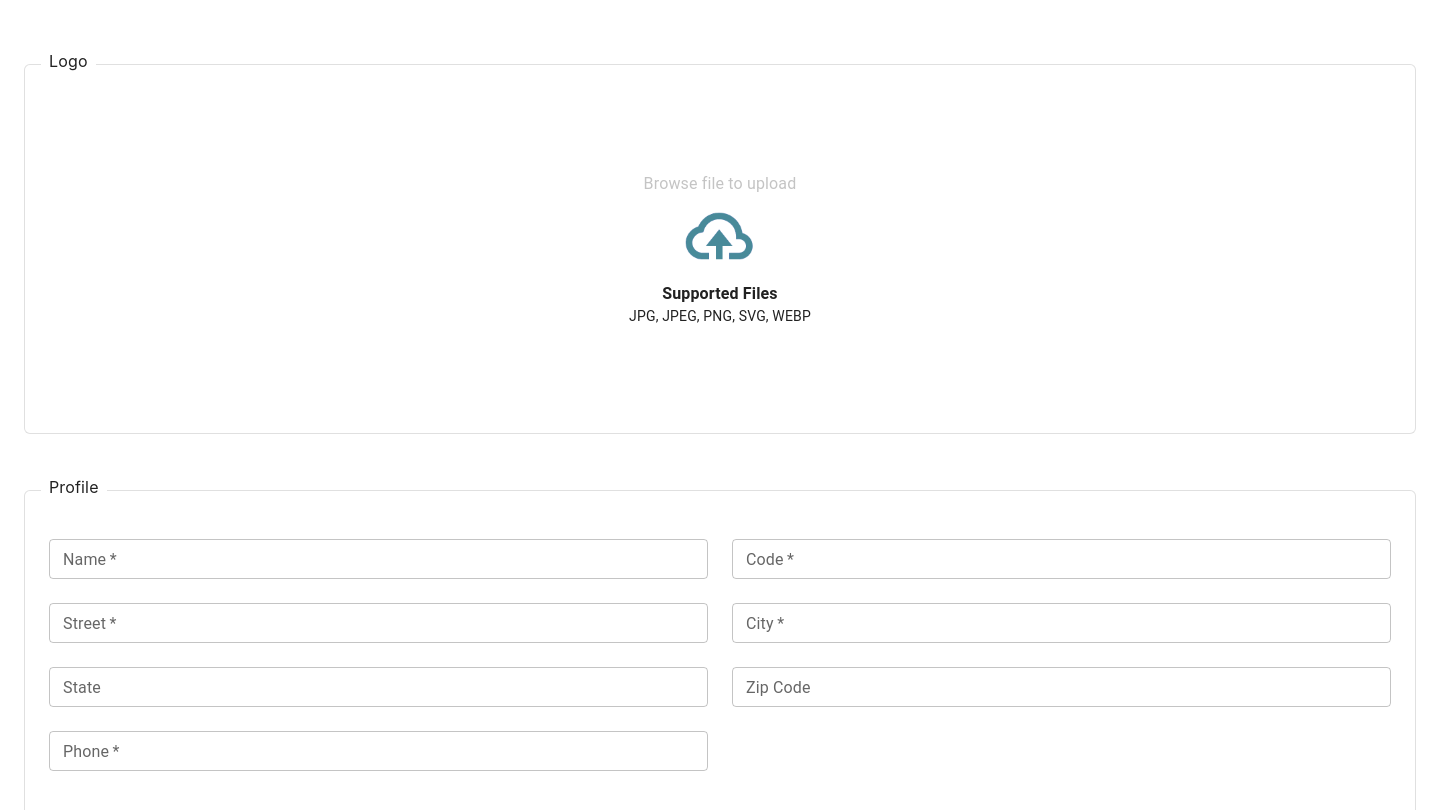
Test: AddUpdateEployer › should show an alert with confirmation message if data was successfully sent, alert should be closable
Type "LT - CoherentSolutions" into the field labelled "Name *". click: (378, 559)
box: left=49, top=539, right=708, bottom=579
Type "LT" into the field labelled "Code *". click: (1062, 559)
box: left=732, top=539, right=1391, bottom=579
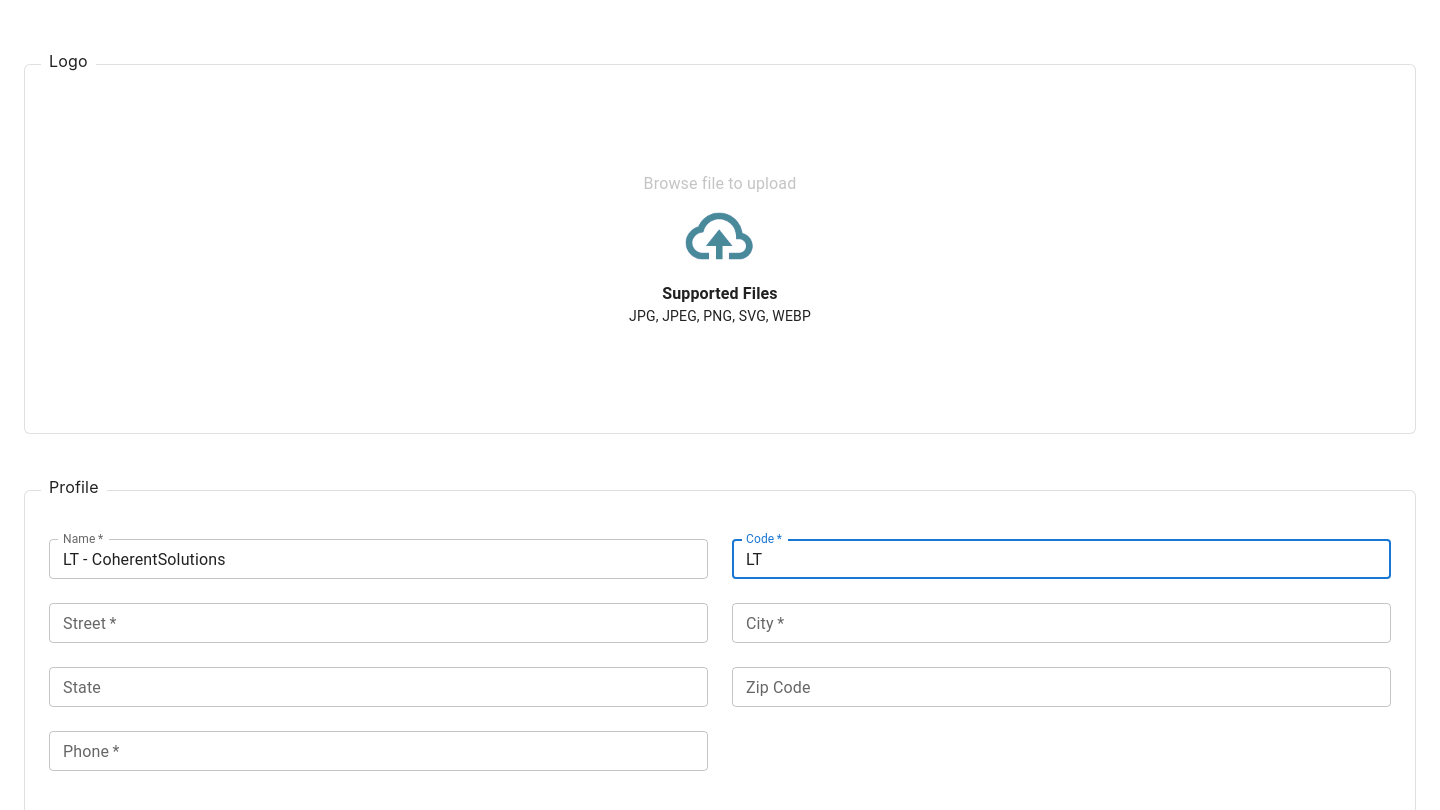
Type "Test St" into the field labelled "Street *". click: (378, 623)
box: left=49, top=603, right=708, bottom=643
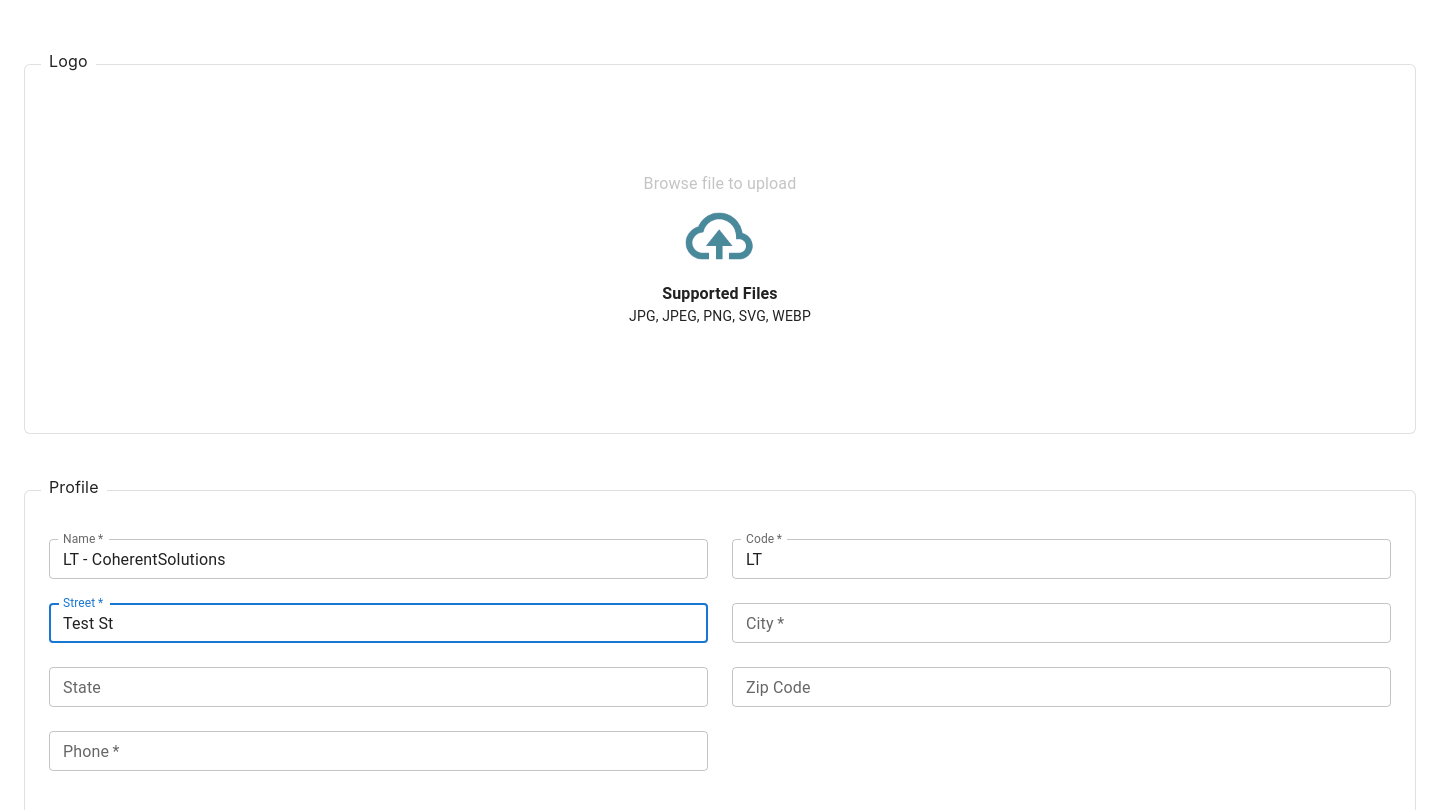
Type "Kaunas" into the field labelled "City *". click: (1062, 623)
box: left=732, top=603, right=1391, bottom=643
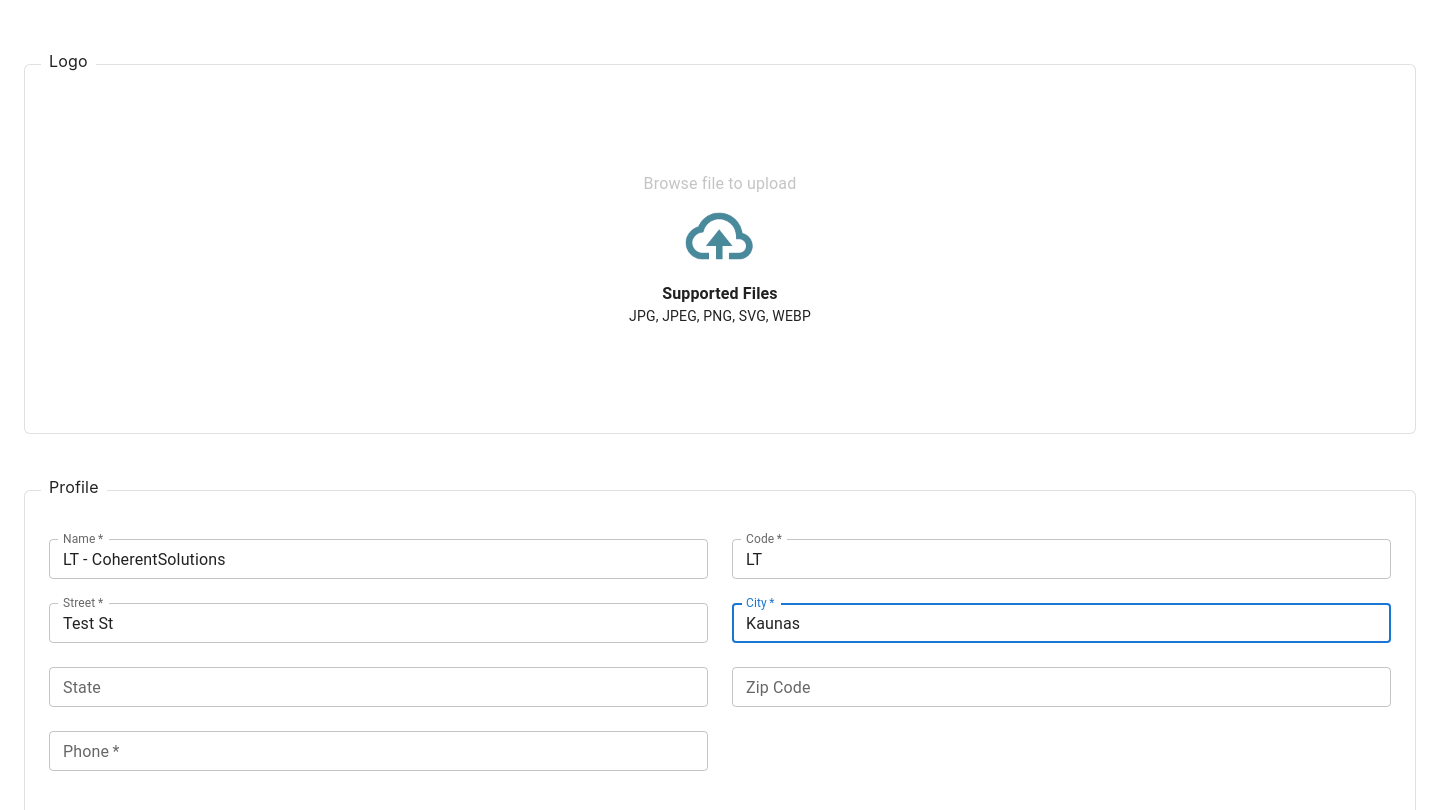
Type "+370 699 132230" into the field labelled "Phone *". click: (378, 751)
box: left=49, top=731, right=708, bottom=771
(page scrolled)
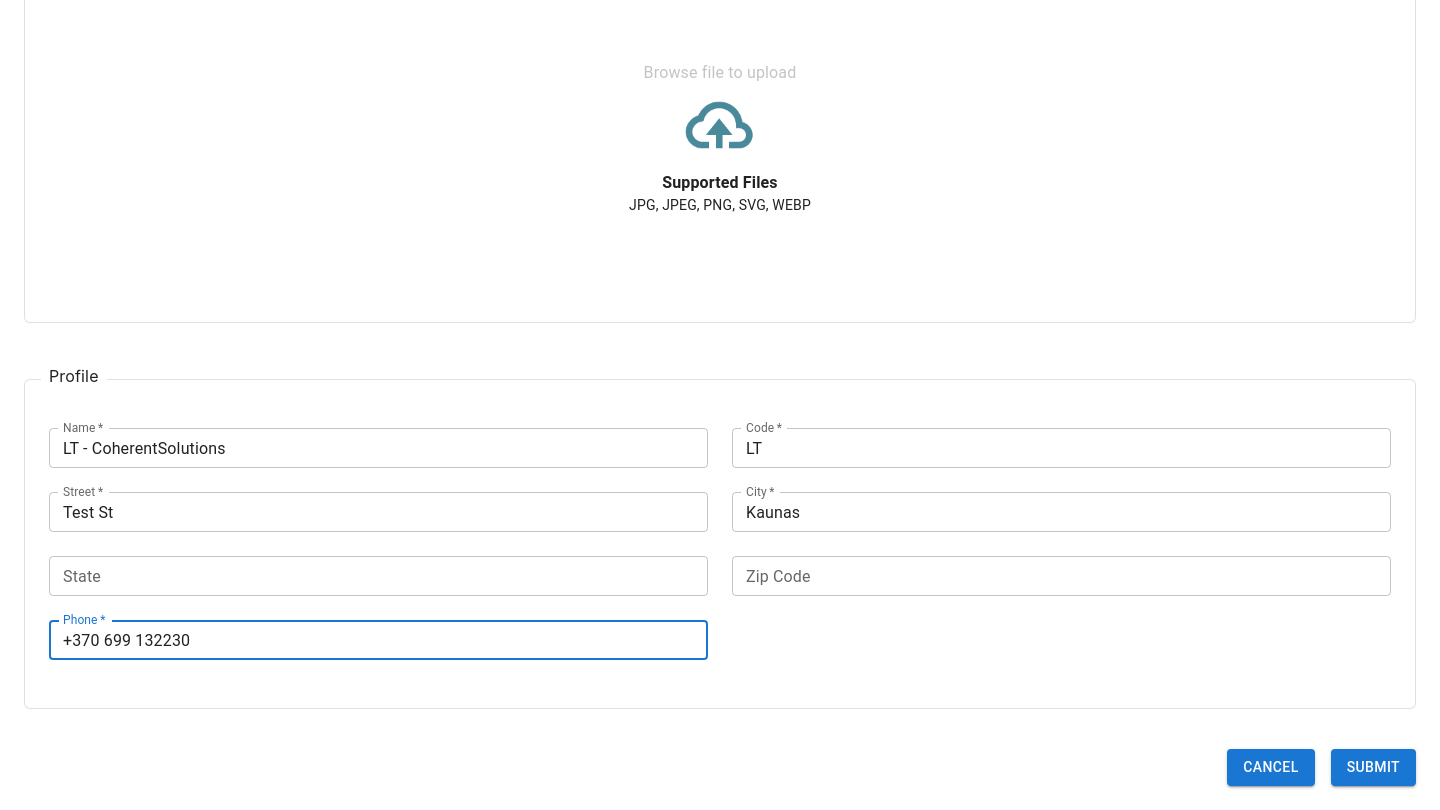
Click the button "Submit". click: (1373, 767)
box: left=1331, top=749, right=1416, bottom=786
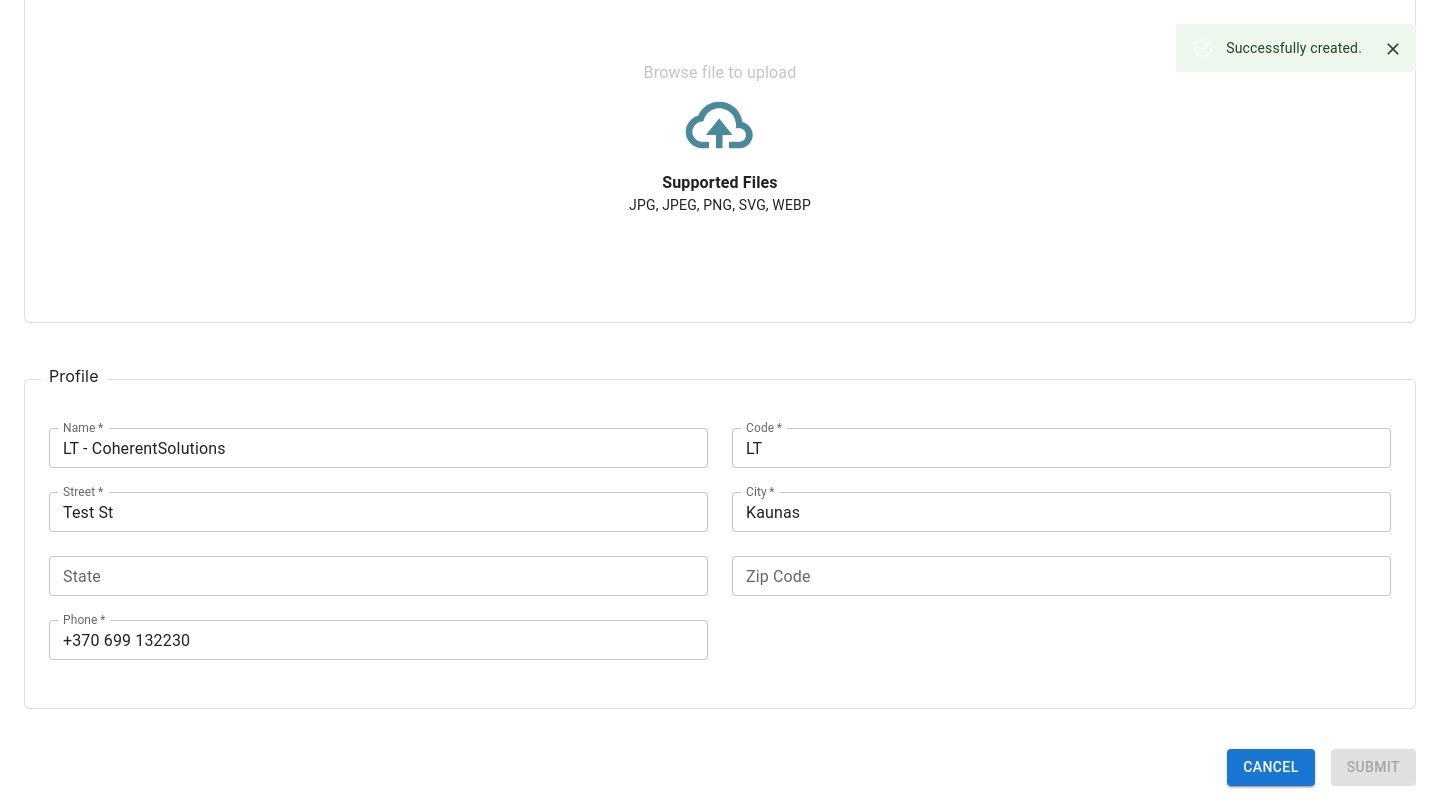
Expected: the message "Successfully created." is shown, left=1176, top=24, right=1416, bottom=72
Expected: the text "Successfully created." is shown, left=1226, top=40, right=1362, bottom=56
Expected: the button named "Close" is shown
Click the button named "Close". click: (1393, 49)
box: left=1378, top=34, right=1408, bottom=64
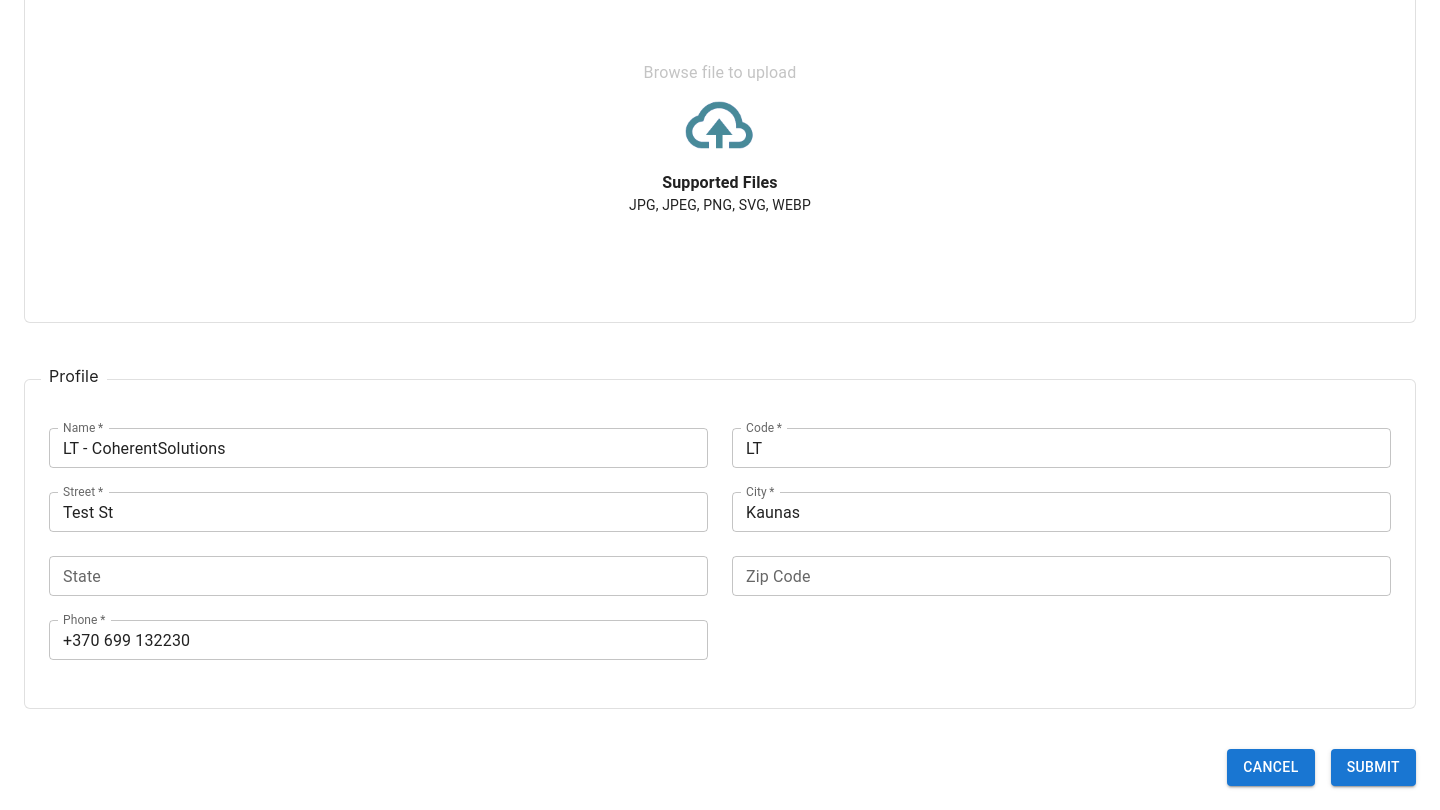
Expected: the message "Successfully created." is gone
